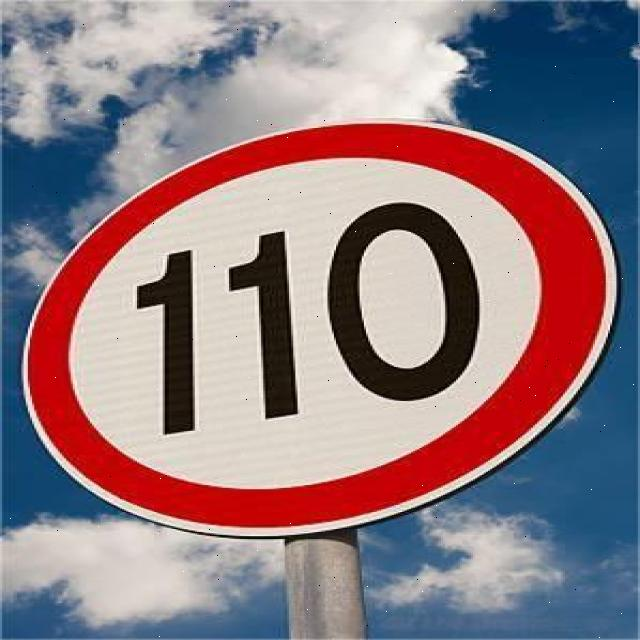speed limit 110: (7, 120, 619, 540)
